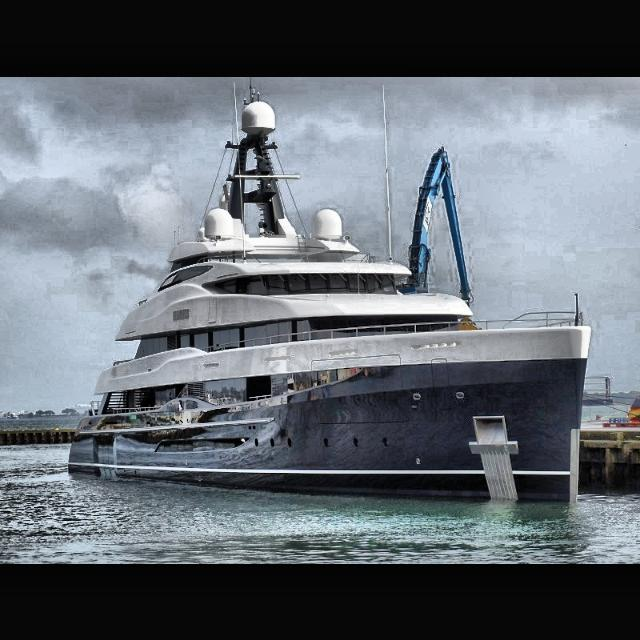yacht: (65, 93, 592, 505)
